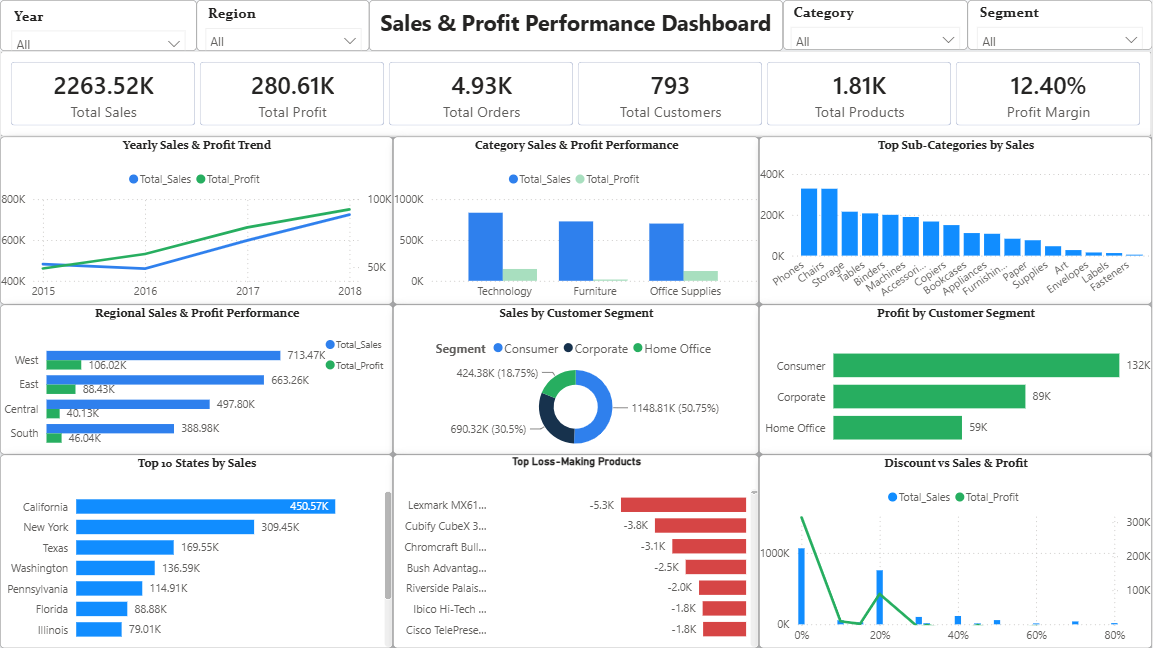

The page's visual inventory and layout, read from the dashboard file:
{"tool":"powerbi","page":{"name":"Page 1","canvas":[1280,720],"ordinal":0},"visuals":[{"type":"cardVisual","fields":{"Data":["Orders_Cleaned.Total_Sales","Orders_Cleaned.Total_Profit","Orders_Cleaned.Total_Orders","Orders_Cleaned.Total_Customers","Orders_Cleaned.Total_Products","Orders_Cleaned.Profit_Margin"]},"box":[0,56.7,1280,95],"z":0},{"type":"lineChart","title":"Yearly Sales & Profit Trend","fields":{"Category":["Orders_Cleaned.Order_Date.Variation.Date Hierarchy.Year"],"Y":["Orders_Cleaned.Total_Sales"],"Y2":["Orders_Cleaned.Total_Profit"]},"box":[0,151.7,436.7,186.7],"z":1000},{"type":"clusteredColumnChart","title":"Category Sales & Profit Performance","fields":{"Category":["Orders_Cleaned.Category"],"Y":["Orders_Cleaned.Total_Sales","Orders_Cleaned.Total_Profit"]},"box":[436.7,151.7,406.7,186.7],"z":2000},{"type":"clusteredColumnChart","title":"Top Sub-Categories by Sales","fields":{"Category":["Orders_Cleaned.Sub_Category"],"Y":["Orders_Cleaned.Total_Sales"]},"box":[843.3,151.7,436.7,186.7],"z":3000},{"type":"clusteredBarChart","title":"Regional Sales & Profit Performance","fields":{"Category":["Orders_Cleaned.Region"],"Y":["Orders_Cleaned.Total_Sales","Orders_Cleaned.Total_Profit"]},"box":[0,338.3,436.7,166.7],"z":4000},{"type":"donutChart","title":"Sales by Customer Segment","fields":{"Category":["Orders_Cleaned.Segment"],"Y":["Orders_Cleaned.Total_Sales"]},"box":[436.7,338.3,406.7,166.7],"z":5000},{"type":"barChart","title":"Profit by Customer Segment","fields":{"Category":["Orders_Cleaned.Segment"],"Y":["Orders_Cleaned.Total_Profit"]},"box":[843.3,338.3,436.7,166.7],"z":6000},{"type":"clusteredBarChart","title":"Top 10 States by Sales","fields":{"Category":["Orders_Cleaned.State"],"Y":["Orders_Cleaned.Total_Sales"]},"box":[0,505,436.7,215],"z":7000},{"type":"clusteredBarChart","title":"Top Loss-Making Products","fields":{"Category":["Orders_Cleaned.Product_Name"],"Y":["Orders_Cleaned.Loss_Profit"]},"box":[436.7,505,406.7,215],"z":8000},{"type":"lineClusteredColumnComboChart","title":"Discount vs Sales & Profit","fields":{"Category":["Orders_Cleaned.Discount"],"Y":["Orders_Cleaned.Total_Sales"],"Y2":["Orders_Cleaned.Total_Profit"]},"box":[843.3,505,436.7,215],"z":8001},{"type":"slicer","fields":{"Values":["Orders_Cleaned.Order_Date.Variation.Date Hierarchy.Year"]},"box":[0,0,218.3,56.7],"z":8002},{"type":"slicer","fields":{"Values":["Orders_Cleaned.Region"]},"box":[218.3,0,191.7,56.7],"z":8003},{"type":"slicer","fields":{"Values":["Orders_Cleaned.Category"]},"box":[870,0,205,55],"z":8004},{"type":"slicer","fields":{"Values":["Orders_Cleaned.Segment"]},"box":[1075,0,205,55],"z":8005},{"type":"textbox","box":[410,0,460,56.7],"z":8006}]}

Visuals, with their boxes in screenshot pixels (x1, y1, x2, y2), scaled from the page's 1280x720 canvas onto the 1153x648 screenshot:
cardVisual - Orders_Cleaned.Total_Sales x Orders_Cleaned.Total_Profit: 0,51,1152,137
"Yearly Sales & Profit Trend" lineChart: 0,137,393,305
"Category Sales & Profit Performance" clusteredColumnChart: 393,137,760,305
"Top Sub-Categories by Sales" clusteredColumnChart: 760,137,1152,305
"Regional Sales & Profit Performance" clusteredBarChart: 0,304,393,454
"Sales by Customer Segment" donutChart: 393,304,760,454
"Profit by Customer Segment" barChart: 760,304,1152,454
"Top 10 States by Sales" clusteredBarChart: 0,454,393,647
"Top Loss-Making Products" clusteredBarChart: 393,454,760,647
"Discount vs Sales & Profit" lineClusteredColumnComboChart: 760,454,1152,647
slicer - Orders_Cleaned.Order_Date.Variation.Date Hierarchy.Year: 0,0,197,51
slicer - Orders_Cleaned.Region: 197,0,369,51
slicer - Orders_Cleaned.Category: 784,0,968,50
slicer - Orders_Cleaned.Segment: 968,0,1152,50
textbox: 369,0,784,51
